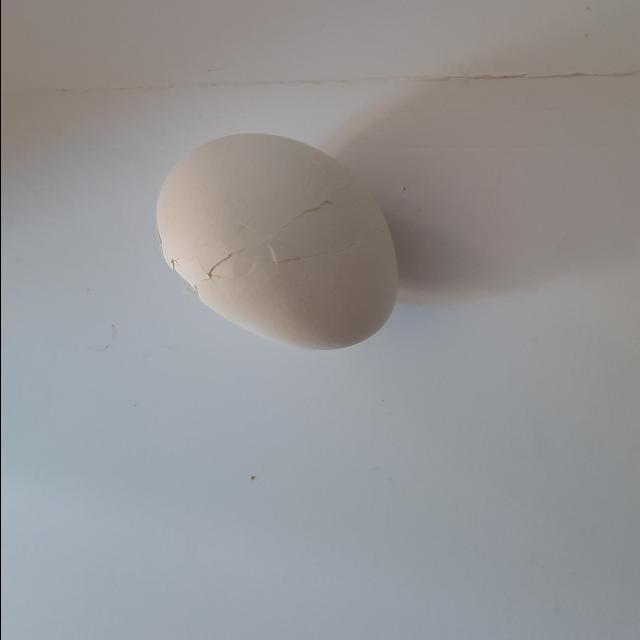egg shell: (150, 124, 406, 359)
